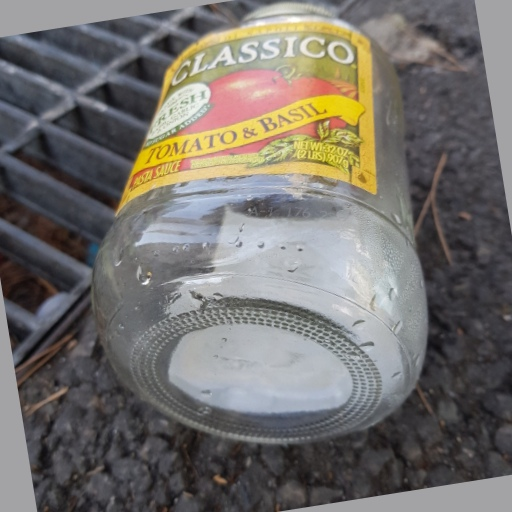Glass_5: (91, 1, 427, 440)
